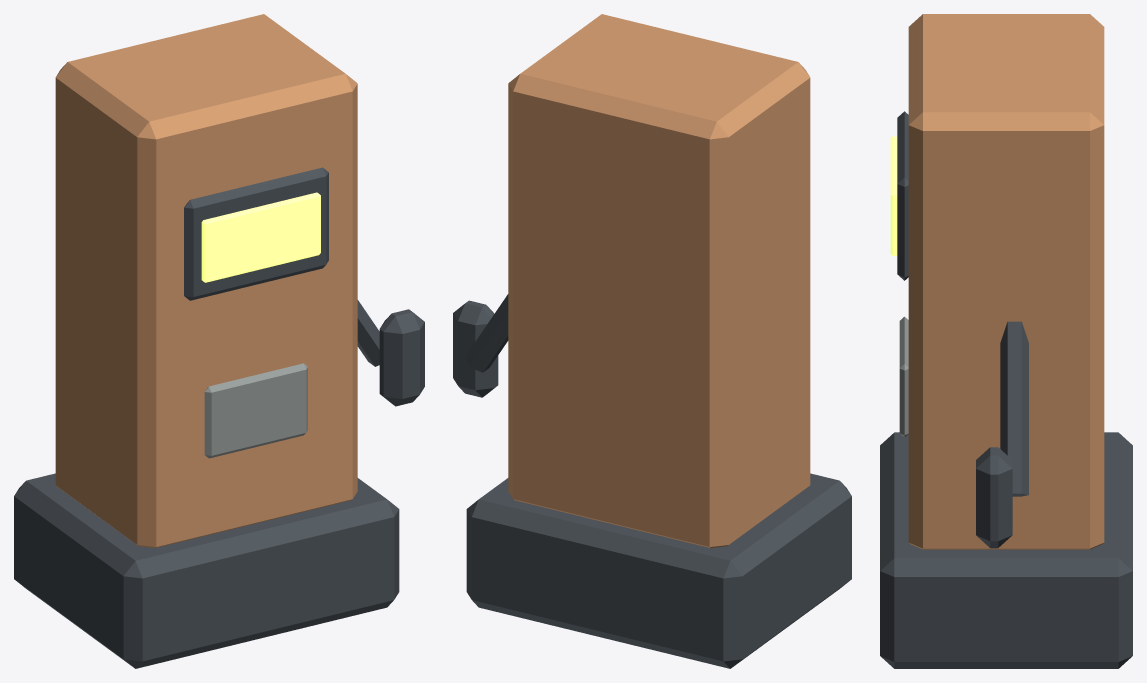
File: dj_fuel_pump.glb
3 views of the same model, side by side, from view 1: azimuth 30°, elevation 25°; view 2: azimuth 150°, elevation 25°; view 3: azimuth 270°, elevation 25° (orthographic). The views are drawn at different scales.
Parts seen in each view (by area): view 1: Pump_Body, Pump_Base, Display_Glow, Lower_Panel, Display_Bezel, Nozzle, Hose; view 2: Pump_Body, Pump_Base, Nozzle, Hose; view 3: Pump_Body, Pump_Base, Hose, Nozzle, Display_Bezel, Lower_Panel, Display_Glow.
Boxes of the visible parts, box(x1,y1,x2,y2) form: Pump_Body: box(55, 14, 357, 547); Pump_Base: box(14, 473, 399, 668); Display_Glow: box(201, 192, 320, 282); Lower_Panel: box(204, 363, 307, 458); Display_Bezel: box(184, 167, 328, 300); Nozzle: box(379, 309, 424, 406); Hose: box(357, 300, 379, 366); Pump_Body: box(508, 14, 810, 547); Pump_Base: box(466, 473, 851, 668); Nozzle: box(453, 300, 498, 397); Hose: box(465, 294, 508, 372); Pump_Body: box(908, 14, 1104, 549); Pump_Base: box(880, 432, 1132, 668); Hose: box(1000, 321, 1028, 496); Nozzle: box(976, 447, 1012, 548); Display_Bezel: box(897, 111, 908, 280); Lower_Panel: box(899, 316, 908, 437); Display_Glow: box(890, 136, 897, 255).
Size of the model in its own units: 1.01 by 1.47 by 0.62.
